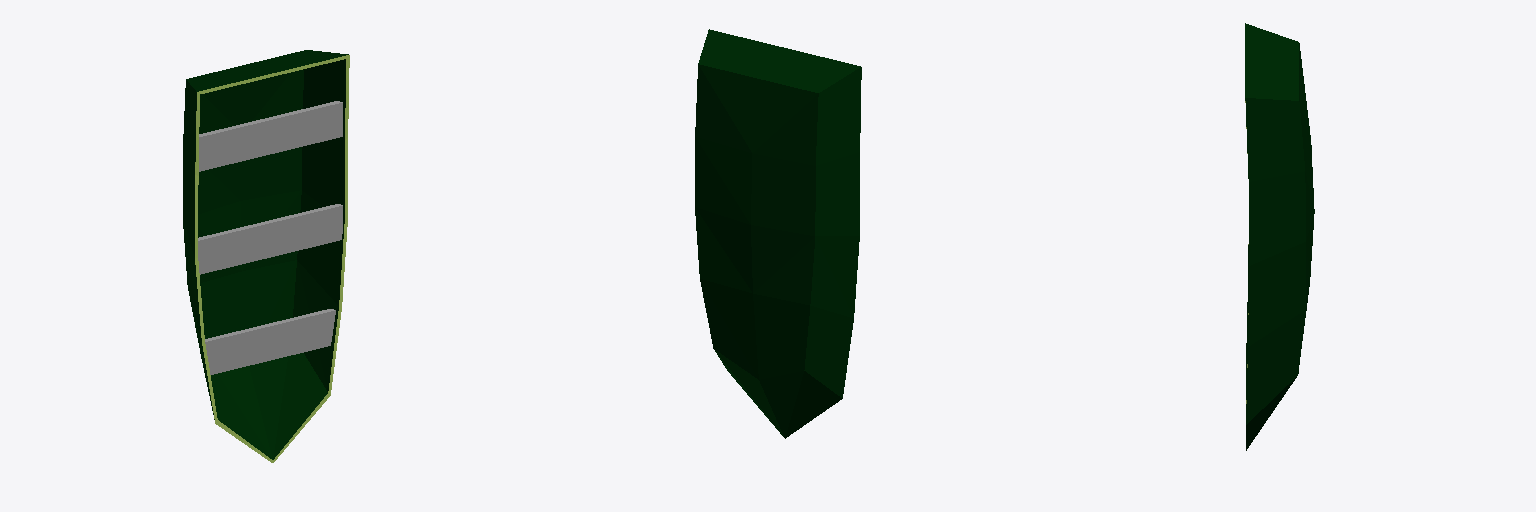
File: boat5.obj
The picture shows the model from 3 angles: view 1: azimuth 30°, elevation 25°; view 2: azimuth 150°, elevation 25°; view 3: azimuth 270°, elevation 25°; orthographic projection.
Visible parts, largest first — view 1: Boats_Cube.012; view 2: Boats_Cube.012; view 3: Boats_Cube.012.
Boxes of the visible parts, x1=… form: Boats_Cube.012: x1=183, y1=50, x2=349, y2=462; Boats_Cube.012: x1=695, y1=29, x2=861, y2=438; Boats_Cube.012: x1=1245, y1=23, x2=1314, y2=450.
Size of the model in its own units: 4.66 by 11.37 by 1.83.